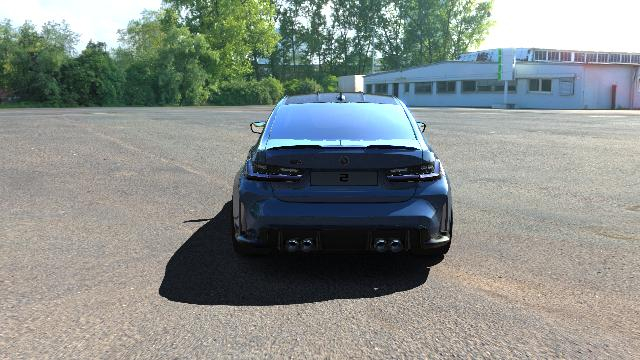License Plate: (310, 171, 376, 187)
